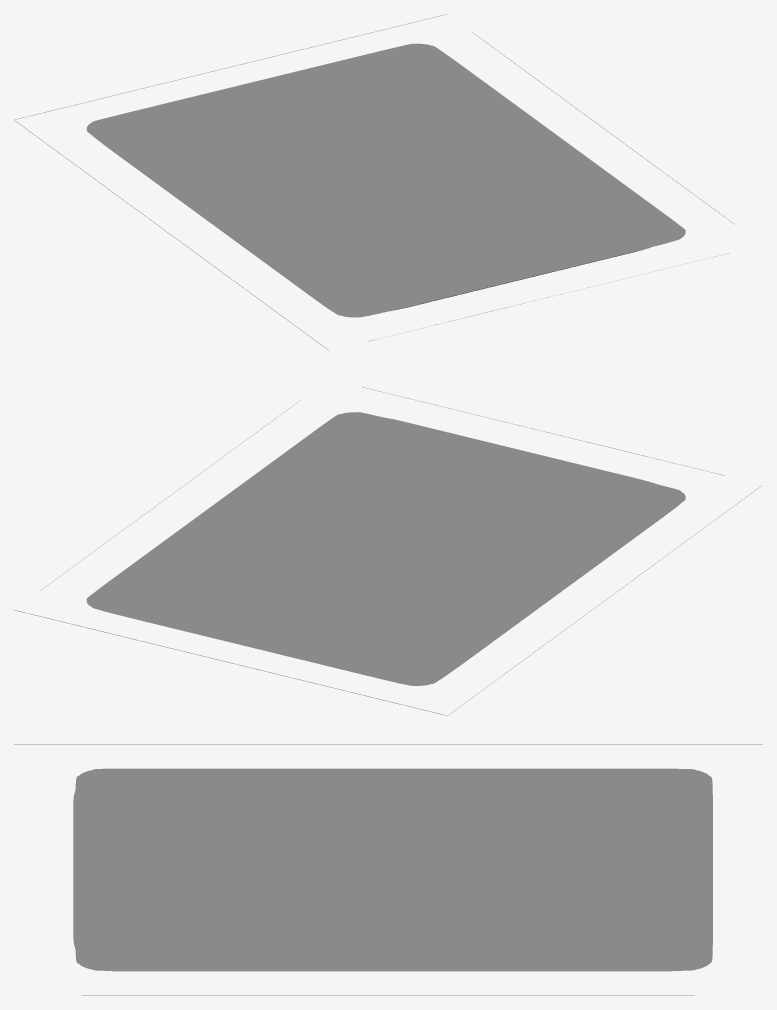
File: card.FBX
3 renders of one model, top to bottom at view 1: azimuth 30°, elevation 25°; view 2: azimuth 150°, elevation 25°; view 3: azimuth 270°, elevation 25°, orthographic. The views are drawn at different scales.
Parts seen in each view (by area): view 1: Card; view 2: Card; view 3: Card.
Part boxes in pixels (left/top/right/bottom): Card: left=14, top=14, right=734, bottom=350; Card: left=14, top=387, right=762, bottom=715; Card: left=14, top=744, right=762, bottom=995.
Bounding box in the file's own units: 150 × 0.1 × 189.
3 materials, 1 textured.
